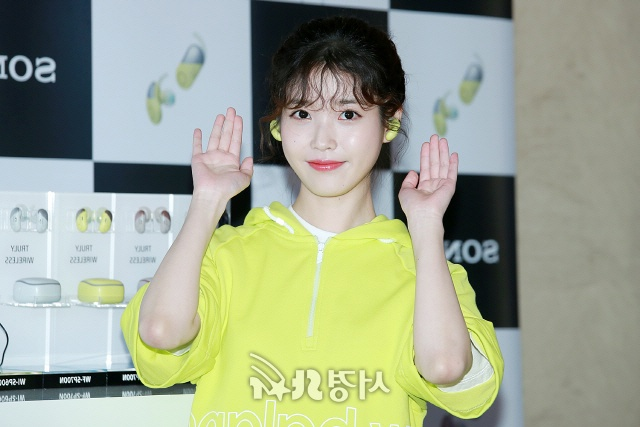earphone: (382, 103, 403, 144)
